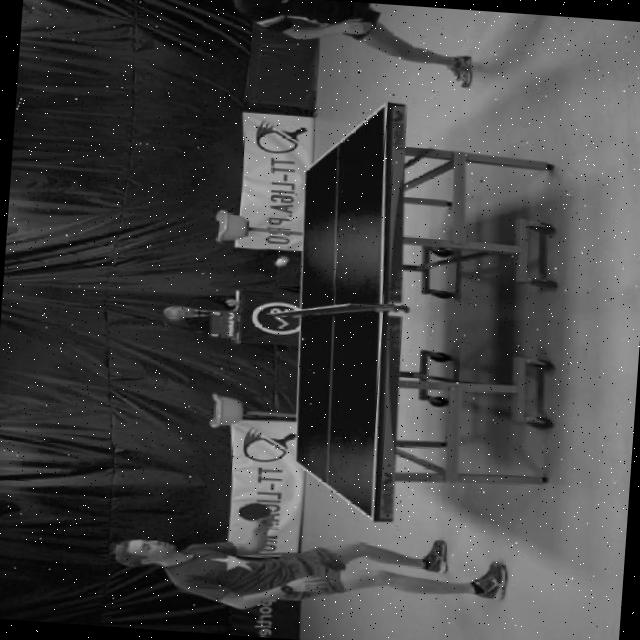ping-pong-ball: (266, 253, 290, 269)
